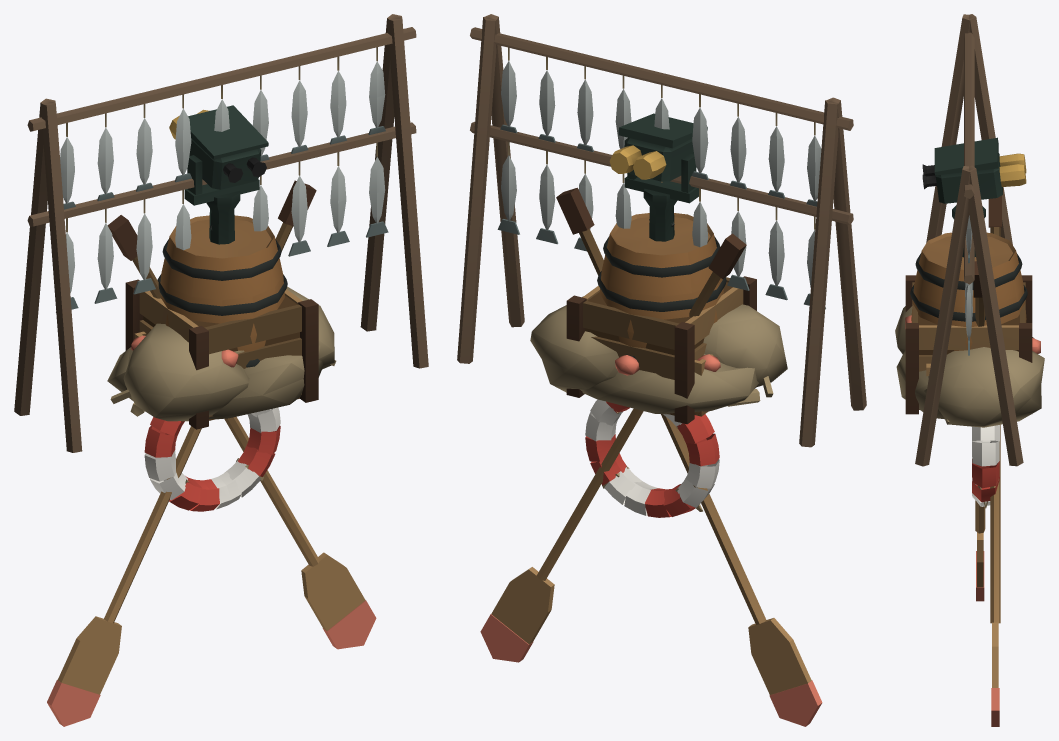
File: pb_props.glb
The picture shows the model from 3 angles, left to right: view 1: azimuth 30°, elevation 25°; view 2: azimuth 150°, elevation 25°; view 3: azimuth 270°, elevation 25°; orthographic projection. The views are drawn at different scales.
Visible parts, largest first — view 1: pb_fish_rack, pb_oars, pb_net_pile, pb_barrel, pb_crate, pb_binocular, pb_lifebuoy; view 2: pb_fish_rack, pb_oars, pb_net_pile, pb_barrel, pb_crate, pb_lifebuoy, pb_binocular; view 3: pb_fish_rack, pb_net_pile, pb_barrel, pb_crate, pb_oars, pb_binocular, pb_lifebuoy.
Part boxes in pixels (<box>): pb_fish_rack: <box>14,14,428,452</box>; pb_oars: <box>47,180,376,726</box>; pb_net_pile: <box>107,286,336,421</box>; pb_barrel: <box>157,215,287,367</box>; pb_crate: <box>125,279,318,429</box>; pb_binocular: <box>169,105,268,244</box>; pb_lifebuoy: <box>144,407,280,511</box>; pb_fish_rack: <box>457,14,866,447</box>; pb_oars: <box>480,187,822,726</box>; pb_net_pile: <box>530,296,787,414</box>; pb_barrel: <box>597,213,726,361</box>; pb_crate: <box>566,276,756,424</box>; pb_lifebuoy: <box>585,399,719,517</box>; pb_binocular: <box>609,113,707,241</box>; pb_fish_rack: <box>915,14,1023,466</box>; pb_net_pile: <box>895,306,1044,427</box>; pb_barrel: <box>910,232,1027,350</box>; pb_crate: <box>905,275,1032,414</box>; pb_oars: <box>973,195,1001,726</box>; pb_binocular: <box>922,137,1026,257</box>; pb_lifebuoy: <box>972,425,999,508</box>.
Size of the model in its own units: 2.1 by 3.32 by 0.7932.
